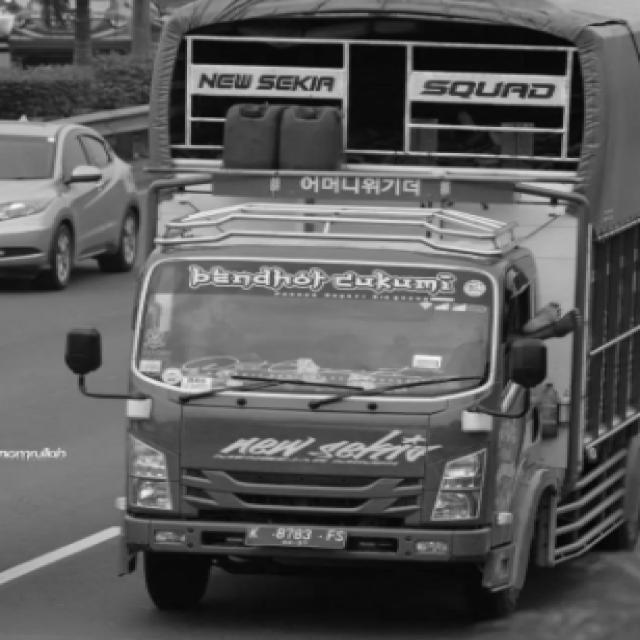Truck: (54, 0, 640, 617)
